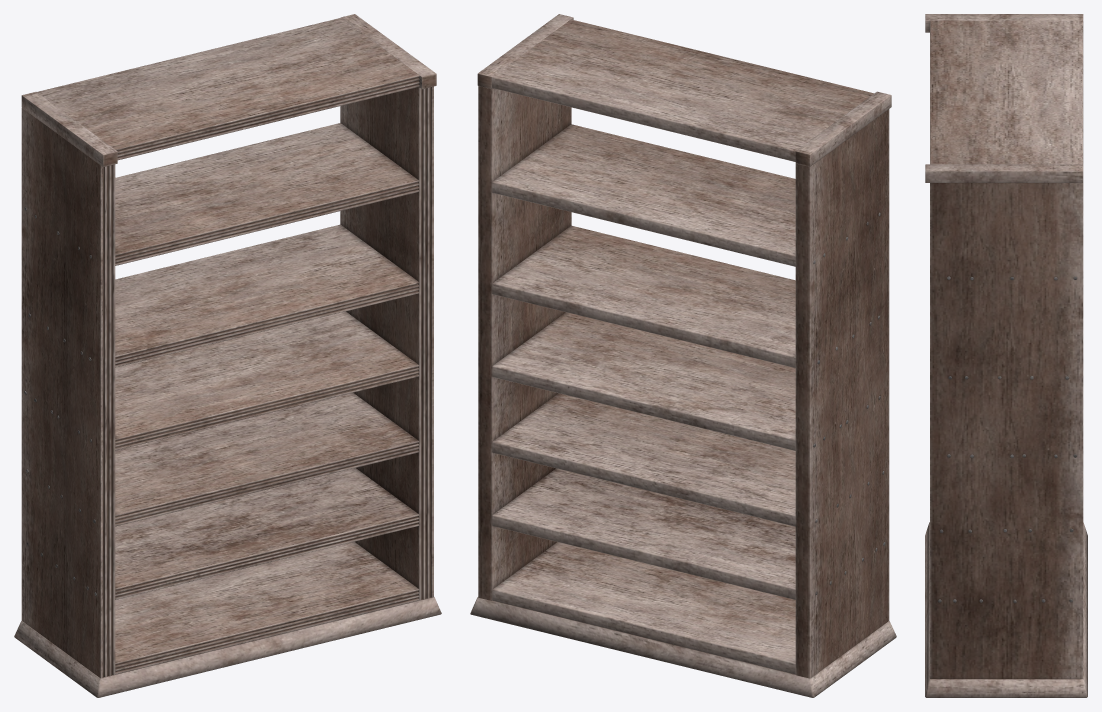
The model's file is wooden_bookshelf_worn.glb.
3 views of the same model, side by side, from view 1: azimuth 30°, elevation 25°; view 2: azimuth 150°, elevation 25°; view 3: azimuth 270°, elevation 25° (orthographic). The views are drawn at different scales.
Visible parts, largest first — view 1: wooden_bookshelf_worn; view 2: wooden_bookshelf_worn; view 3: wooden_bookshelf_worn.
Boxes of the visible parts, <box> form: wooden_bookshelf_worn: <box>14,14,441,697</box>; wooden_bookshelf_worn: <box>470,14,896,697</box>; wooden_bookshelf_worn: <box>925,14,1087,697</box>.
Bounding box in the file's own units: 1.37 × 2.06 × 0.5813.
1 material, 1 textured.
